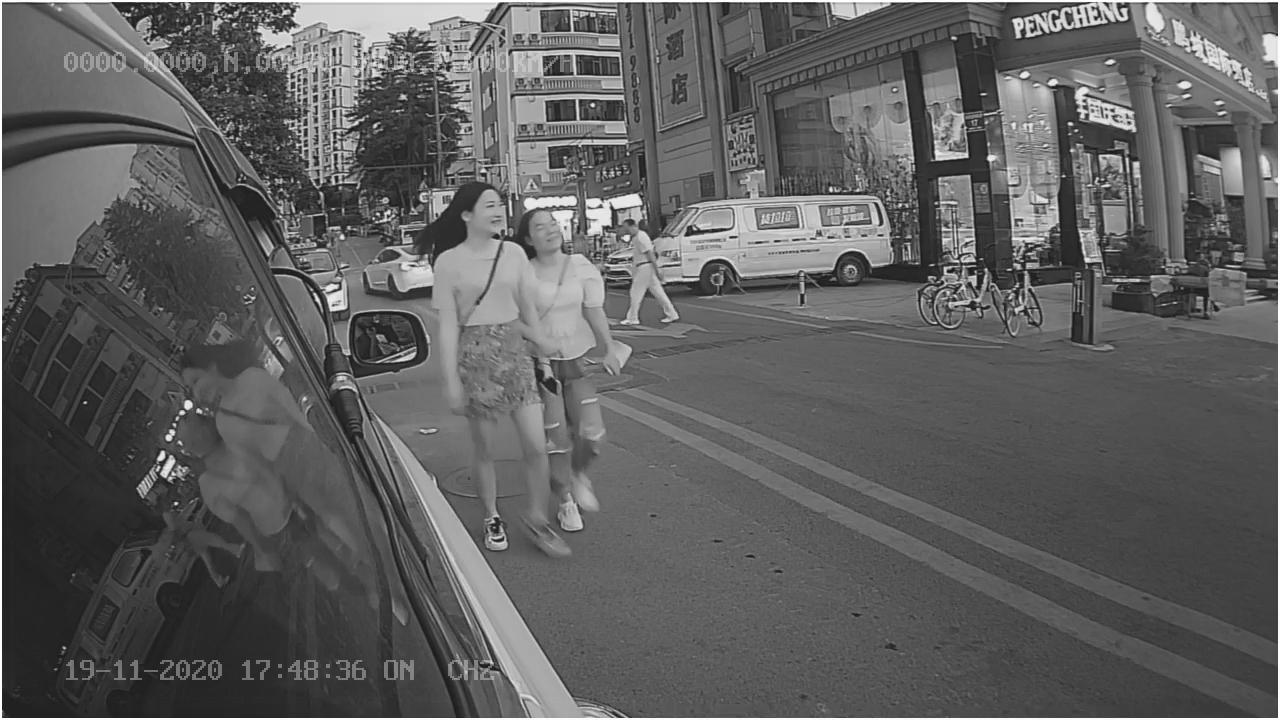person: (423, 176, 554, 464)
